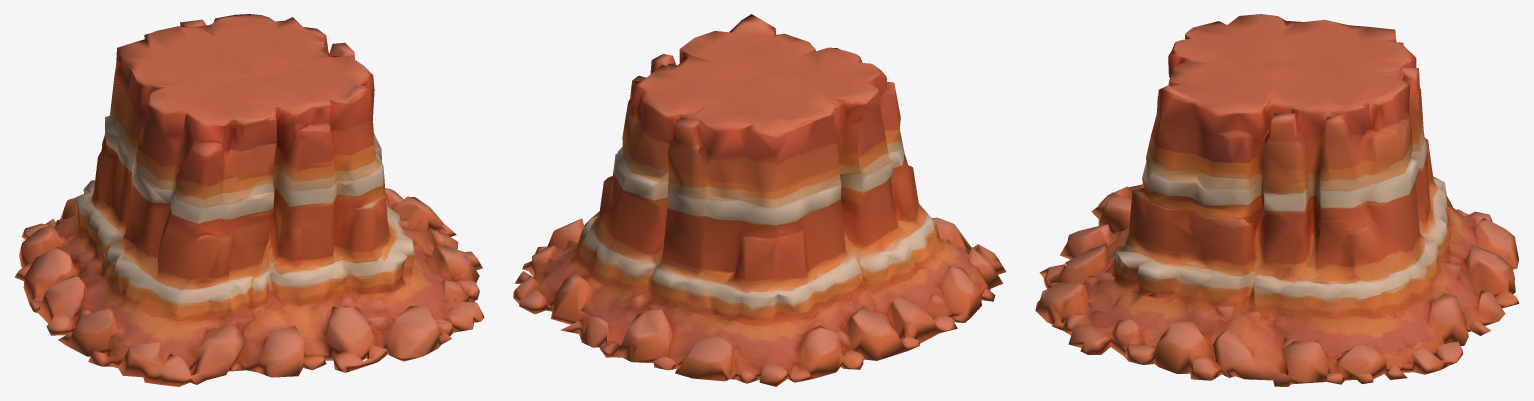
File: mesa.glb
3 views of the same model, side by side, from view 1: azimuth 30°, elevation 25°; view 2: azimuth 150°, elevation 25°; view 3: azimuth 270°, elevation 25° (orthographic). The views are drawn at different scales.
Visible parts, largest first — view 1: tripo_node_6c1cf2ee-1233-40d0-940d-060a54a0a1f4; view 2: tripo_node_6c1cf2ee-1233-40d0-940d-060a54a0a1f4; view 3: tripo_node_6c1cf2ee-1233-40d0-940d-060a54a0a1f4.
Boxes of the visible parts, x1=… form: tripo_node_6c1cf2ee-1233-40d0-940d-060a54a0a1f4: x1=14, y1=14, x2=484, y2=386; tripo_node_6c1cf2ee-1233-40d0-940d-060a54a0a1f4: x1=513, y1=14, x2=1006, y2=386; tripo_node_6c1cf2ee-1233-40d0-940d-060a54a0a1f4: x1=1035, y1=14, x2=1519, y2=386.
Size of the model in its own units: 0.995 by 0.5183 by 1.
1 material, 1 textured.
